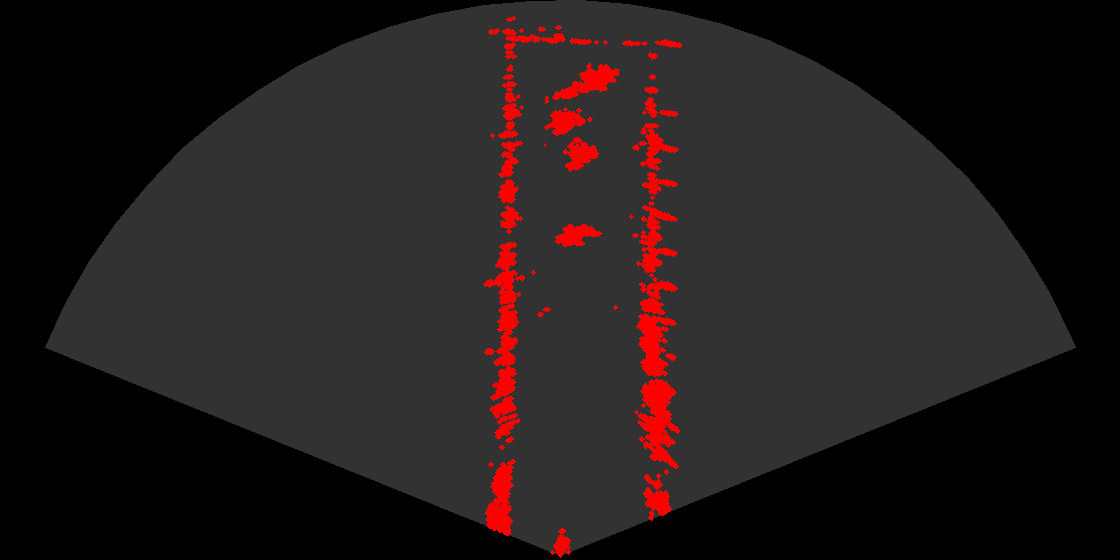AUV: (549, 222, 605, 254)
cage: (544, 96, 607, 180)
frogman: (551, 57, 619, 104)
